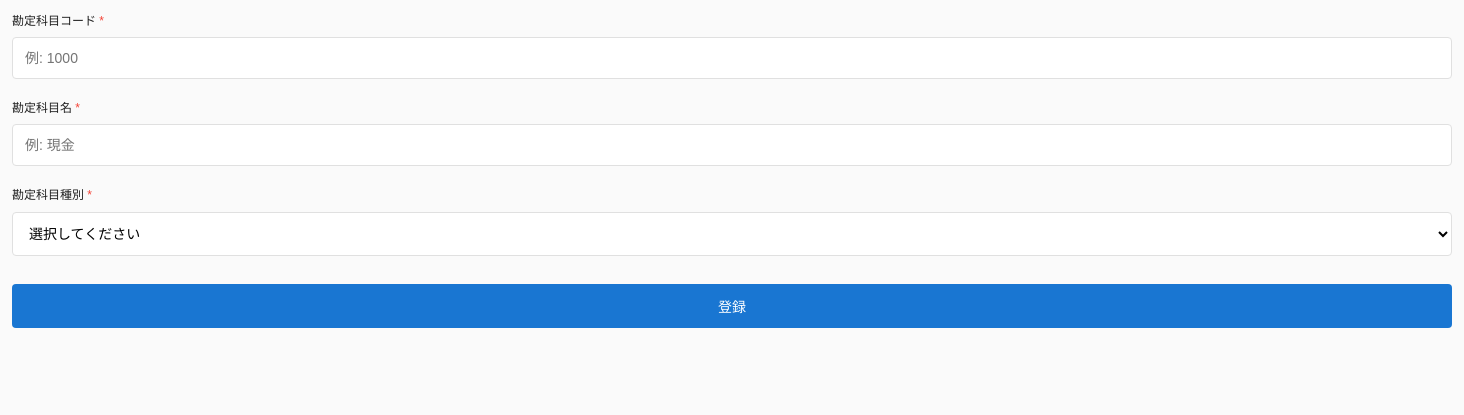
Scenario: CreateAccountForm › shows validation errors when required fields are empty
The image size is (1464, 415).
Click the button with test id "create-account-submit". click: (732, 306)
box: 12,284 -> 1452,328
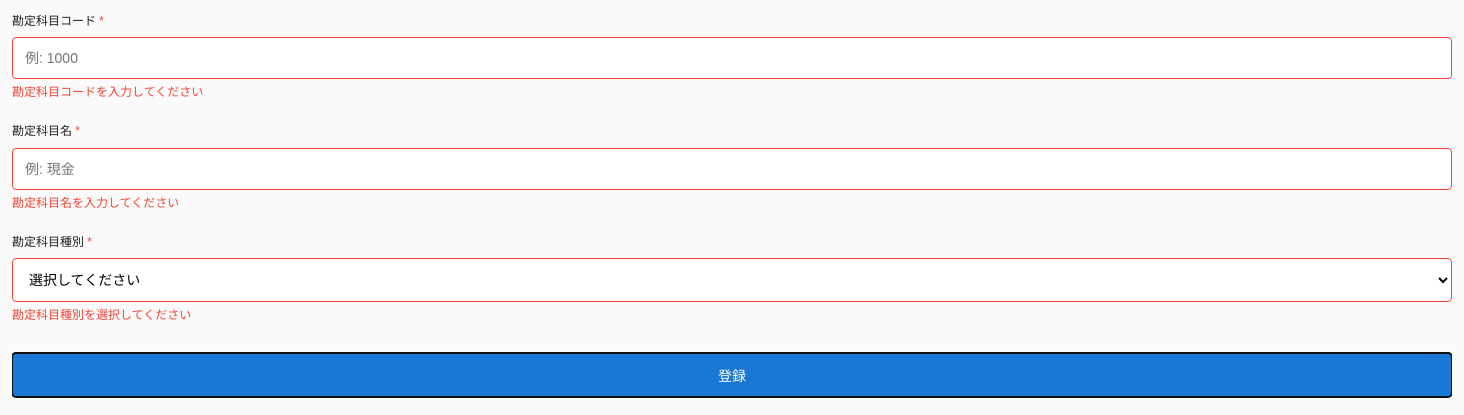
Expected: the text "勘定科目コードを入力してください" is shown, 12,85 -> 203,99
Expected: the text "勘定科目名を入力してください" is shown, 12,196 -> 179,210
Expected: the text "勘定科目種別を選択してください" is shown, 12,308 -> 191,322
